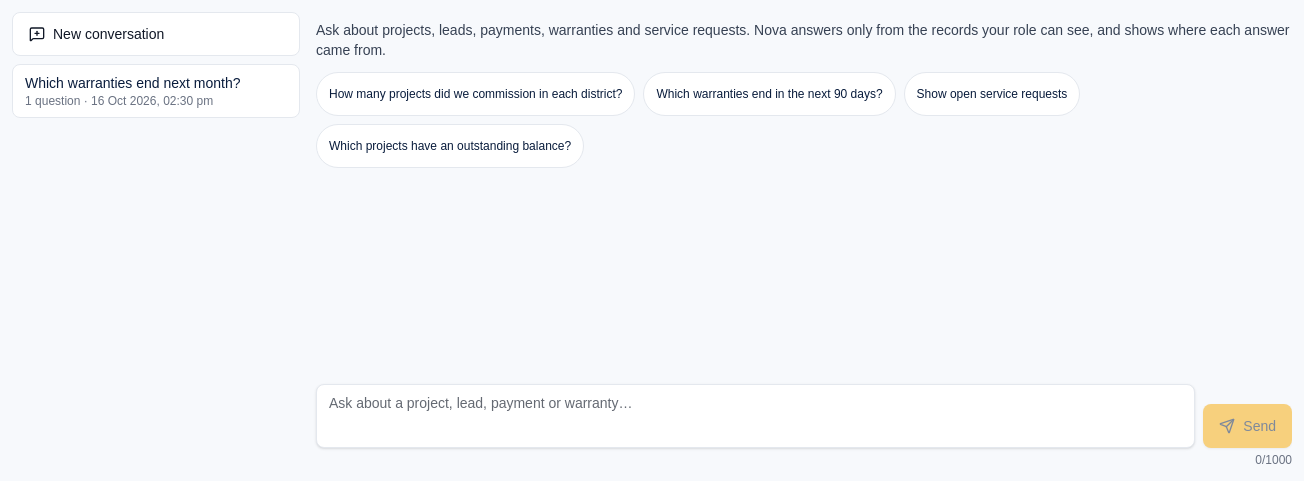
feedback › feedback already given on an earlier turn is shown, not offered again
Click the button "Which warranties end next month" at x=156, y=91, box 12,64 -> 300,118
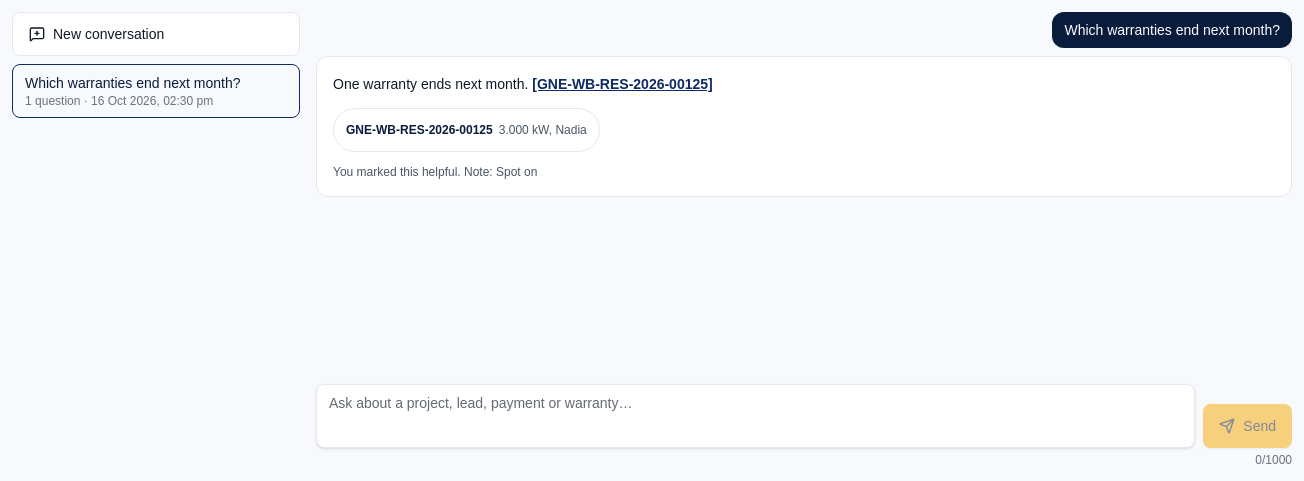
Expected: the text with test id "feedback-sent" shows "Spot on", 461,165 -> 537,179
